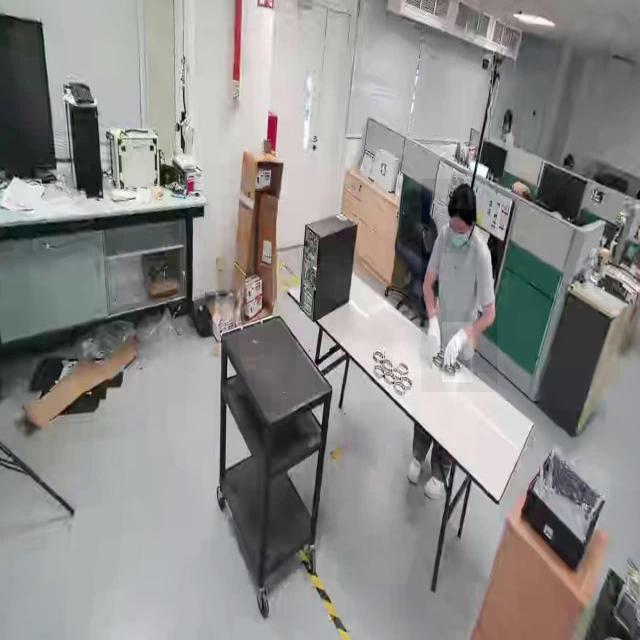hand_glove: (442, 322, 473, 383), (441, 209, 477, 253), (422, 308, 441, 366)
head_nohelmet: (447, 183, 476, 209)
person: (422, 179, 498, 393)
